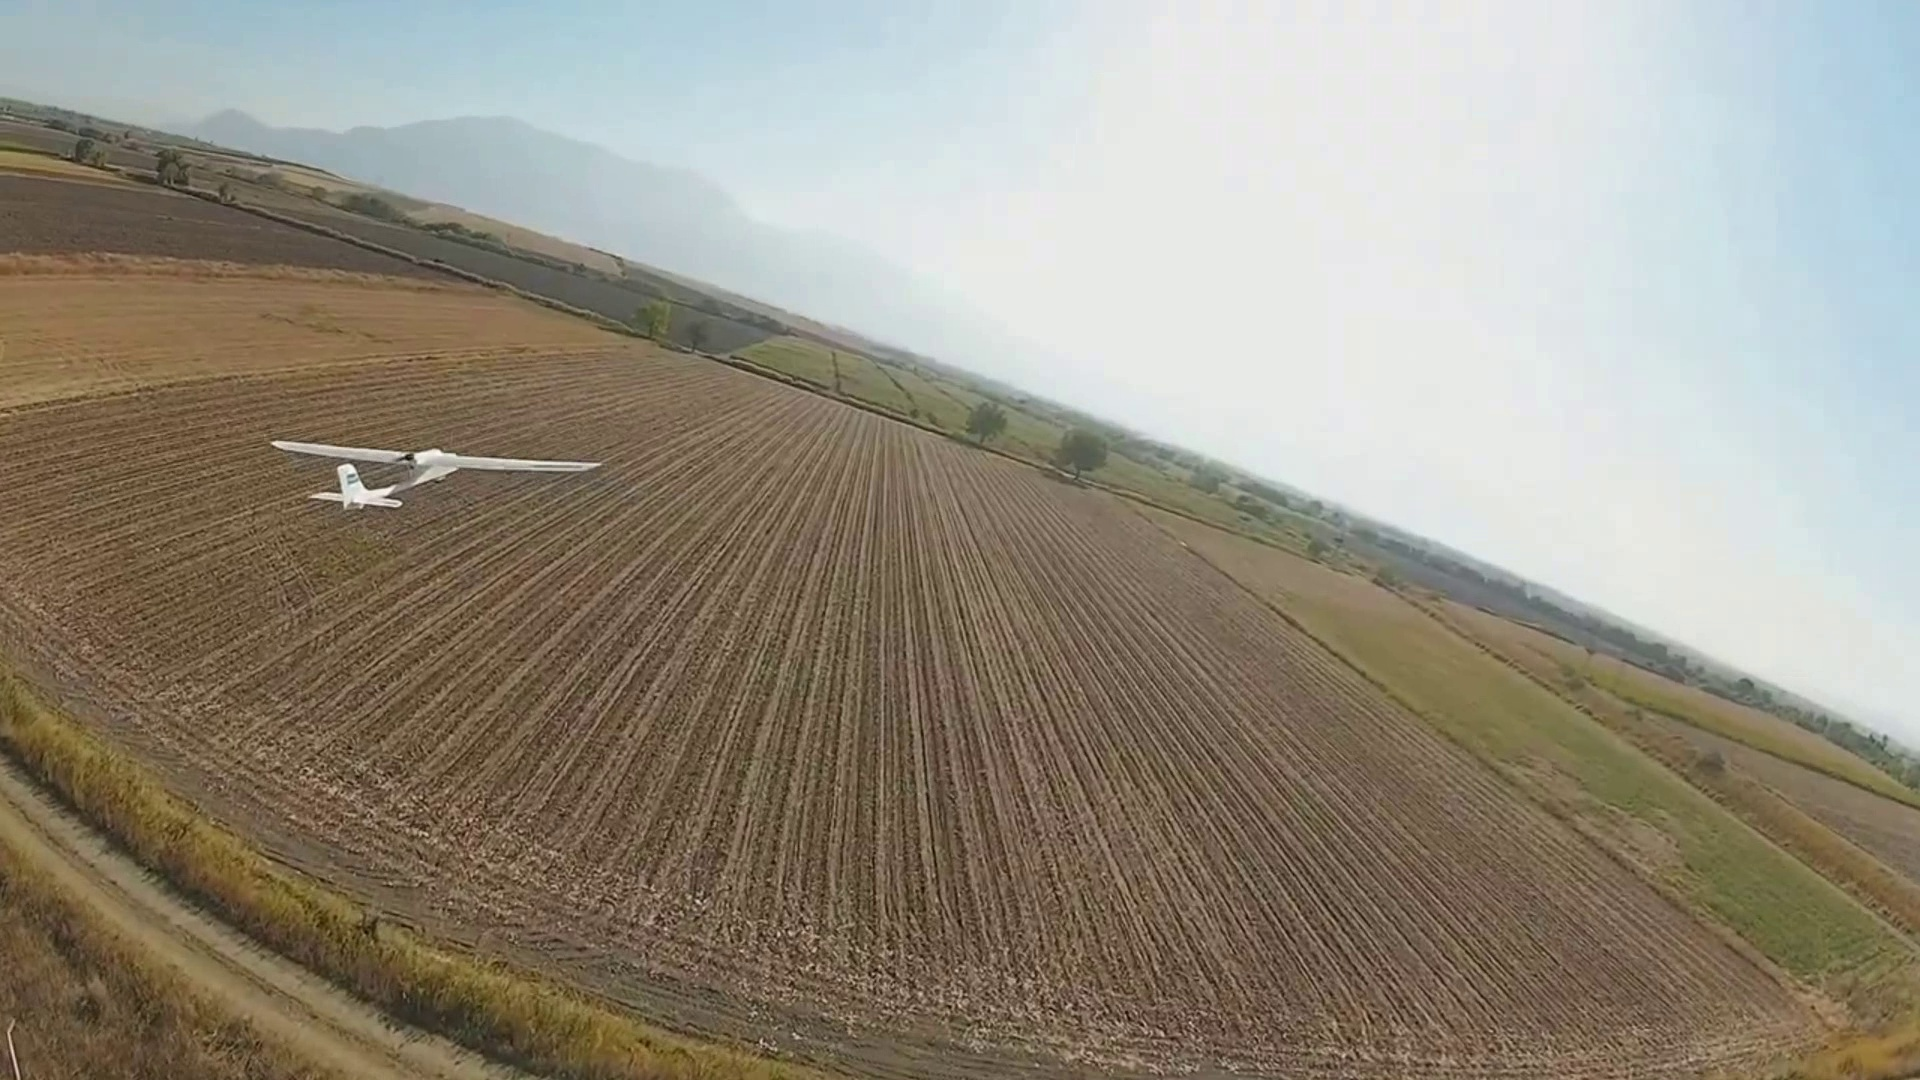airplane: (269, 435, 597, 509)
